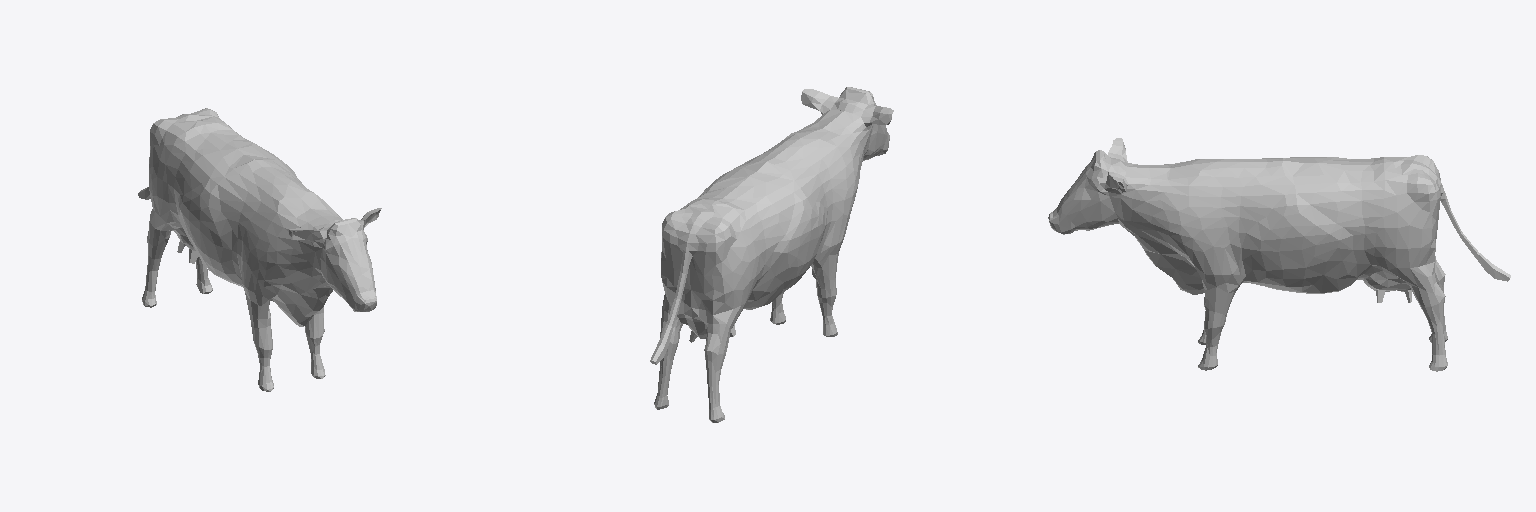
The model's file is cow.obj.
3 views of the same model, side by side, from view 1: azimuth 30°, elevation 25°; view 2: azimuth 150°, elevation 25°; view 3: azimuth 270°, elevation 25° (orthographic).
Visible parts, largest first — view 1: cow; view 2: cow; view 3: cow.
Part boxes in pixels (x1,y1,x2,y2): cow: (138,108,381,391); cow: (650,87,893,422); cow: (1048,138,1510,371).
Bounding box in the file's own units: 0.8773 × 1.7 × 3.52.